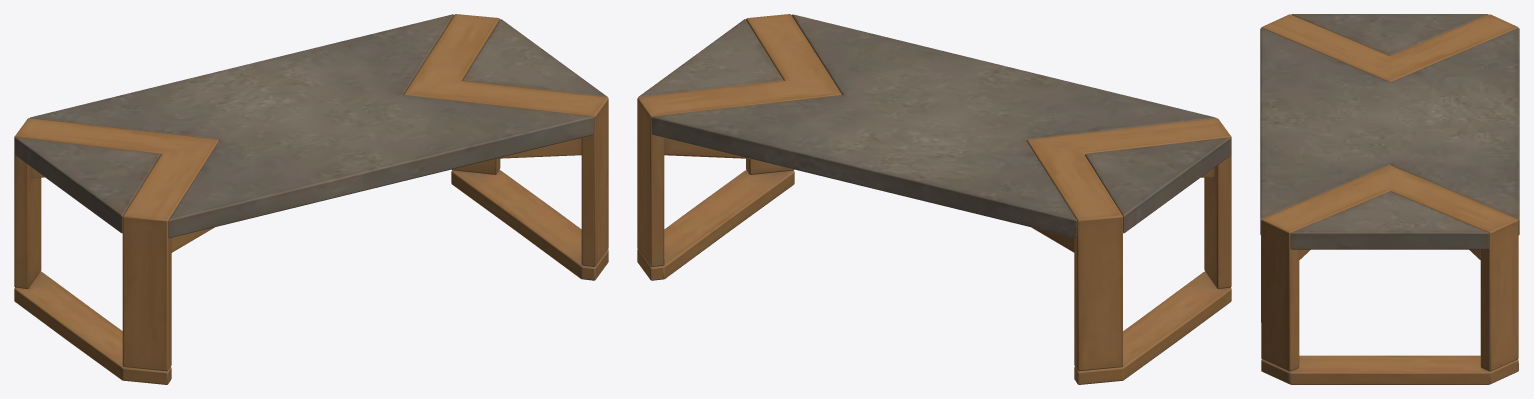
The model's file is ctable_concrete.glb.
3 renders of one model, left to right at view 1: azimuth 30°, elevation 25°; view 2: azimuth 150°, elevation 25°; view 3: azimuth 270°, elevation 25°, orthographic. The views are drawn at different scales.
Parts seen in each view (by area): view 1: modern_coffee_table_01; view 2: modern_coffee_table_01; view 3: modern_coffee_table_01.
Boxes of the visible parts, left/top/right/bottom form: modern_coffee_table_01: left=14, top=14, right=608, bottom=384; modern_coffee_table_01: left=637, top=14, right=1231, bottom=384; modern_coffee_table_01: left=1260, top=14, right=1519, bottom=384.
Bounding box in the file's own units: 1.2 × 0.39 × 0.5999.
Materials: 1 (1 with a texture image).
